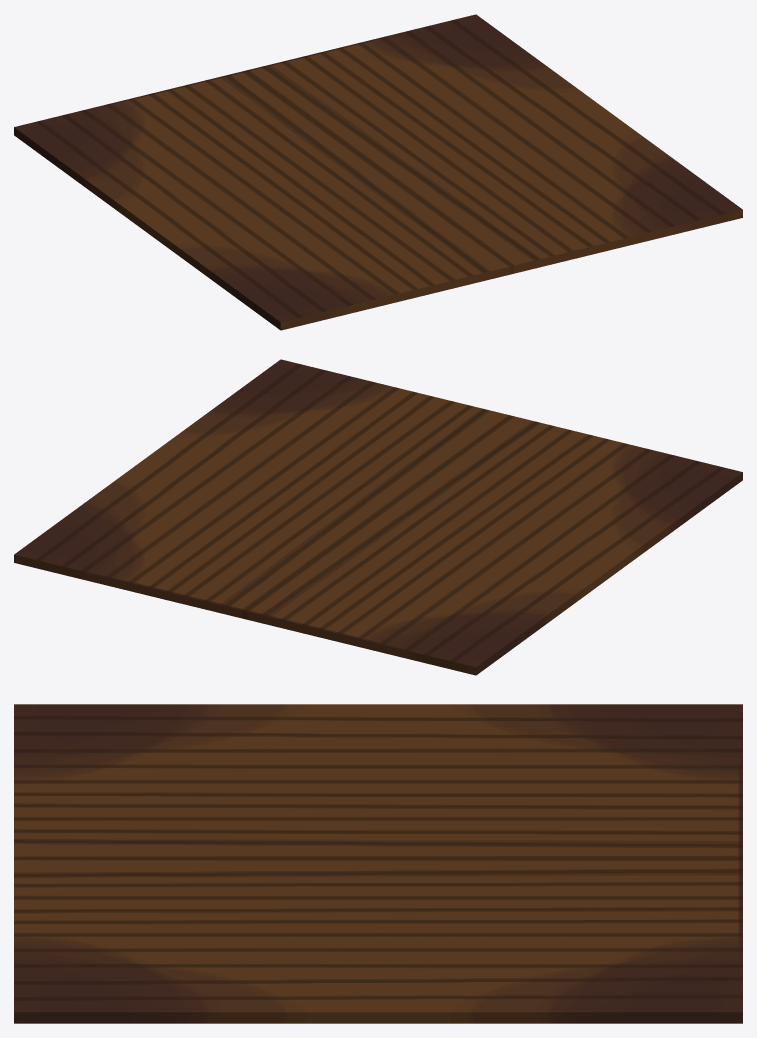
Rendered from Dirty floor 1.glb.
The picture shows the model from 3 angles, top to bottom: view 1: azimuth 30°, elevation 25°; view 2: azimuth 150°, elevation 25°; view 3: azimuth 270°, elevation 25°; orthographic projection. The views are drawn at different scales.
Parts seen in each view (by area): view 1: Cube; view 2: Cube; view 3: Cube.
Boxes of the visible parts, bbox=[...] form: Cube: bbox=[14, 14, 742, 330]; Cube: bbox=[14, 359, 742, 675]; Cube: bbox=[14, 704, 742, 1023].
Bounding box in the file's own units: 3.13 × 0.0531 × 3.13.
Materials: 1 (1 with a texture image).
